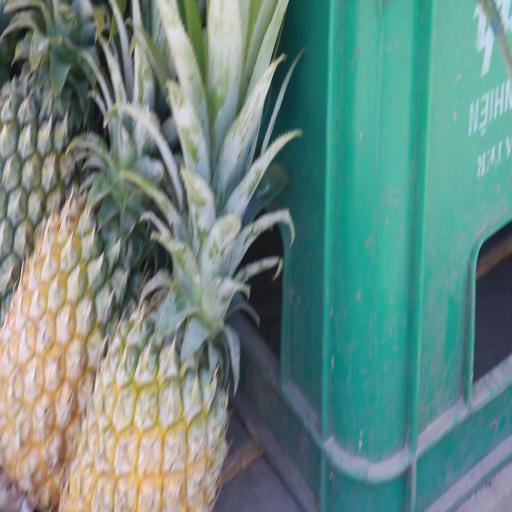Pineapple - v8 v1: (0, 67, 146, 512), (56, 153, 233, 512)
